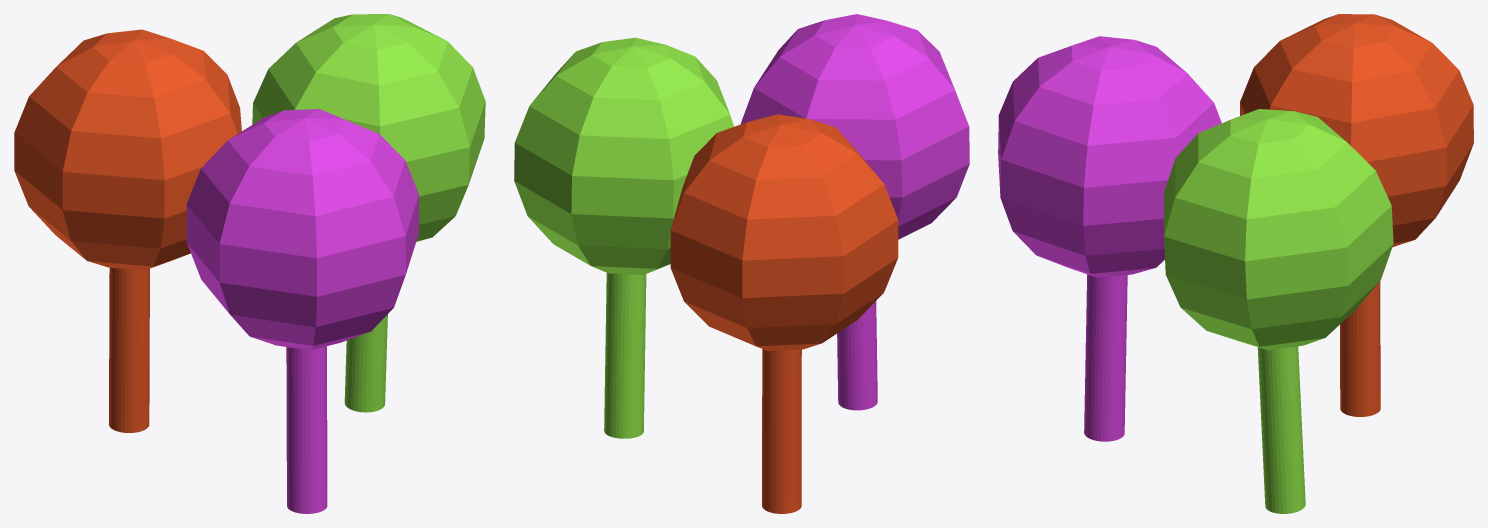
The model's file is crystaltrees.glb.
3 renders of one model, left to right at view 1: azimuth 30°, elevation 25°; view 2: azimuth 150°, elevation 25°; view 3: azimuth 270°, elevation 25°, orthographic. The views are drawn at different scales.
Visible parts, largest first — view 1: Sphere, Sphere.001, Sphere.002, Cylinder.001, Cylinder, Cylinder.002; view 2: Sphere.001, Sphere.002, Sphere, Cylinder.002, Cylinder, Cylinder.001; view 3: Sphere.002, Sphere, Sphere.001, Cylinder.001, Cylinder.002, Cylinder.
Part boxes in pixels (<box>): Sphere: <box>186,109,418,350</box>; Sphere.001: <box>14,29,241,270</box>; Sphere.002: <box>252,14,485,241</box>; Cylinder.001: <box>286,346,327,513</box>; Cylinder: <box>109,267,149,432</box>; Cylinder.002: <box>344,314,387,412</box>; Sphere.001: <box>670,114,898,350</box>; Sphere.002: <box>514,37,733,274</box>; Sphere: <box>740,14,969,239</box>; Cylinder.002: <box>604,273,646,438</box>; Cylinder: <box>762,349,801,513</box>; Cylinder.001: <box>837,301,877,410</box>; Sphere.002: <box>1164,109,1393,350</box>; Sphere: <box>998,36,1221,277</box>; Sphere.001: <box>1240,14,1473,247</box>; Cylinder.001: <box>1084,274,1127,441</box>; Cylinder.002: <box>1257,346,1305,513</box>; Cylinder: <box>1340,281,1380,416</box>.
Size of the model in its own units: 4.46 by 4.21 by 4.69.
